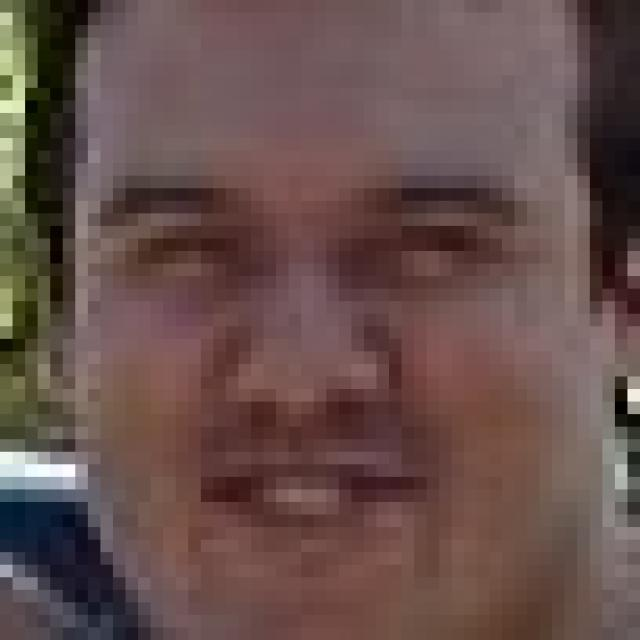Eyeclosed: (133, 223, 235, 276), (377, 220, 492, 267)
